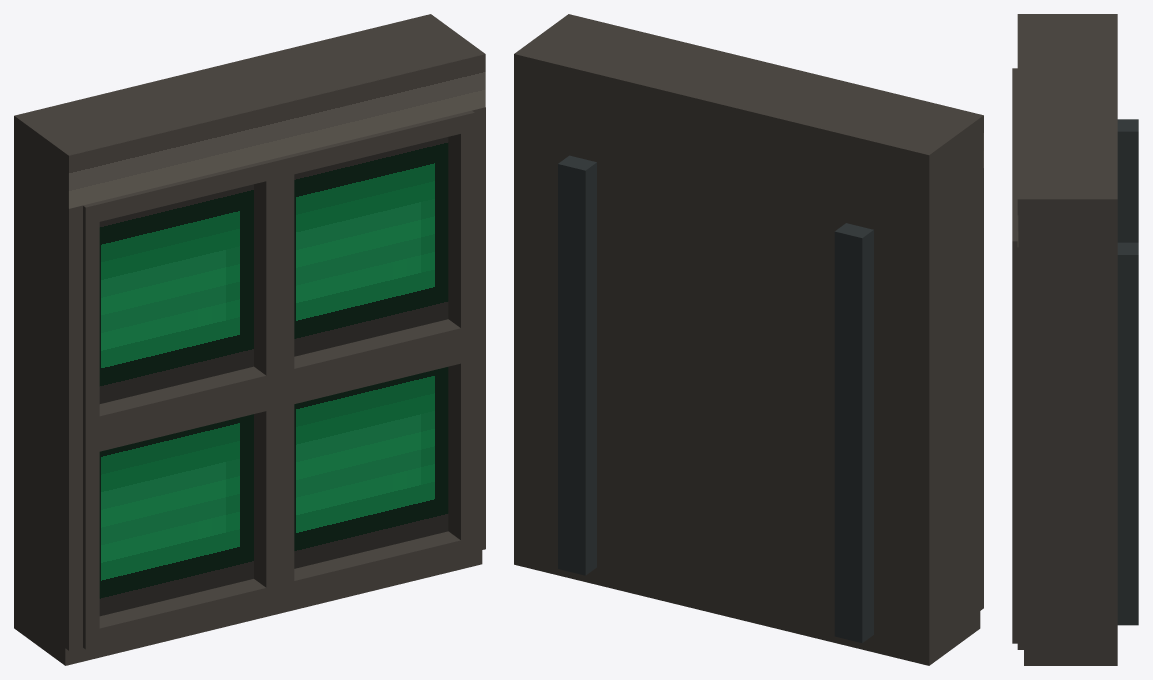
File: CMU3DMultiMonitorBigCloudNorth.glb
3 views of the same model, side by side, from view 1: azimuth 30°, elevation 25°; view 2: azimuth 150°, elevation 25°; view 3: azimuth 270°, elevation 25° (orthographic). The views are drawn at different scales.
Parts seen in each view (by area): view 1: display 1 recessed inset original face, display 2 recessed inset original face, display 4 recessed inset original face, display 3 recessed inset original face, full depth left chassis, upper horizontal casing original face, left outer steel stile, cabinet roof, upper horizontal casing, display 3 lower frame, display 4 lower frame, display 2 lower frame (+19 smaller); view 2: rear cabinet wall, left outer steel stile, upper horizontal casing, full depth left chassis, rear left mounting batten, cabinet roof, rear right mounting batten, central vertical display divider, full depth right chassis, central horizontal display divider, right outer steel stile; view 3: full depth right chassis, right outer steel stile, cabinet roof, rear right mounting batten, upper horizontal casing, rear cabinet wall, rear left mounting batten, display 2 right frame, display 4 right frame, full depth left chassis, display 2 upper frame, display 1 upper frame (+1 smaller).
Boxes of the visible parts, x1,y1,x2,y2 form: display 1 recessed inset original face: [99, 184, 253, 403]; display 2 recessed inset original face: [294, 137, 448, 356]; display 4 recessed inset original face: [294, 367, 448, 568]; display 3 recessed inset original face: [99, 414, 253, 616]; full depth left chassis: [14, 112, 79, 665]; upper horizontal casing original face: [68, 54, 485, 208]; left outer steel stile: [14, 169, 82, 650]; cabinet roof: [37, 24, 467, 149]; upper horizontal casing: [14, 14, 484, 208]; display 3 lower frame: [83, 579, 280, 649]; display 4 lower frame: [280, 531, 474, 601]; display 2 lower frame: [280, 319, 474, 389]; rear cabinet wall: [528, 51, 923, 662]; left outer steel stile: [915, 168, 983, 648]; upper horizontal casing: [514, 14, 983, 207]; full depth left chassis: [915, 114, 980, 665]; rear left mounting batten: [834, 223, 873, 643]; cabinet roof: [537, 20, 965, 145]; rear right mounting batten: [558, 155, 596, 575]; central vertical display divider: [707, 154, 735, 600]; full depth right chassis: [514, 16, 577, 567]; central horizontal display divider: [528, 321, 914, 450]; right outer steel stile: [514, 107, 527, 549]; full depth right chassis: [1024, 193, 1117, 665]; right outer steel stile: [1017, 247, 1117, 649]; cabinet roof: [1024, 20, 1101, 192]; rear right mounting batten: [1117, 242, 1138, 625]; upper horizontal casing: [1018, 14, 1117, 247]; rear cabinet wall: [1101, 20, 1117, 192]; rear left mounting batten: [1117, 119, 1138, 242]; display 2 right frame: [1012, 257, 1017, 434]; display 4 right frame: [1012, 466, 1017, 627]; full depth left chassis: [1024, 14, 1117, 20]; display 2 upper frame: [1012, 155, 1017, 257]; display 1 upper frame: [1012, 68, 1017, 154].
Bounding box in the file's own units: 0.9375 × 1.1 × 0.27.
6 materials, 3 textured.
